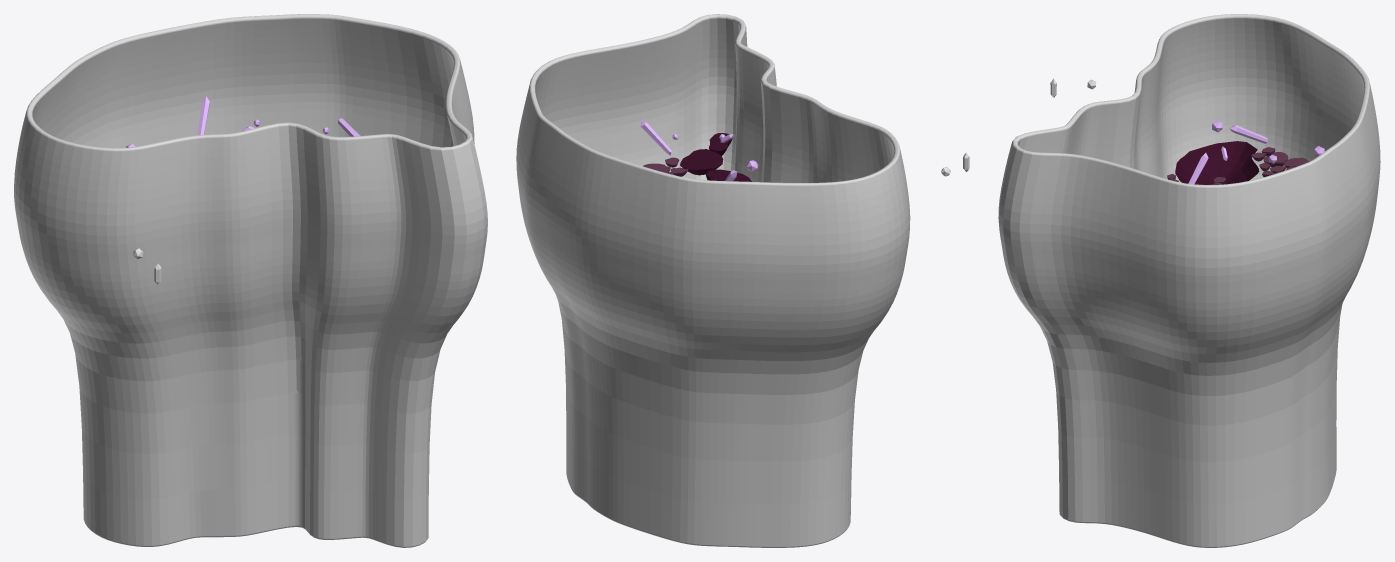
Rendered from BrainMaze_Concept1.fbx.
3 renders of one model, left to right at view 1: azimuth 30°, elevation 25°; view 2: azimuth 150°, elevation 25°; view 3: azimuth 270°, elevation 25°, orthographic. The views are drawn at different scales.
Visible parts, largest first — view 1: Walls; view 2: Walls, Medula; view 3: Walls, Frontal Lobe.
Part boxes in pixels (bbox=[...]): Walls: bbox=[14, 14, 487, 547]; Walls: bbox=[516, 14, 910, 547]; Medula: bbox=[680, 149, 723, 175]; Walls: bbox=[998, 14, 1380, 547]; Frontal Lobe: bbox=[1175, 141, 1259, 184].
Bounding box in the file's own units: 12352 × 11794 × 10697.
